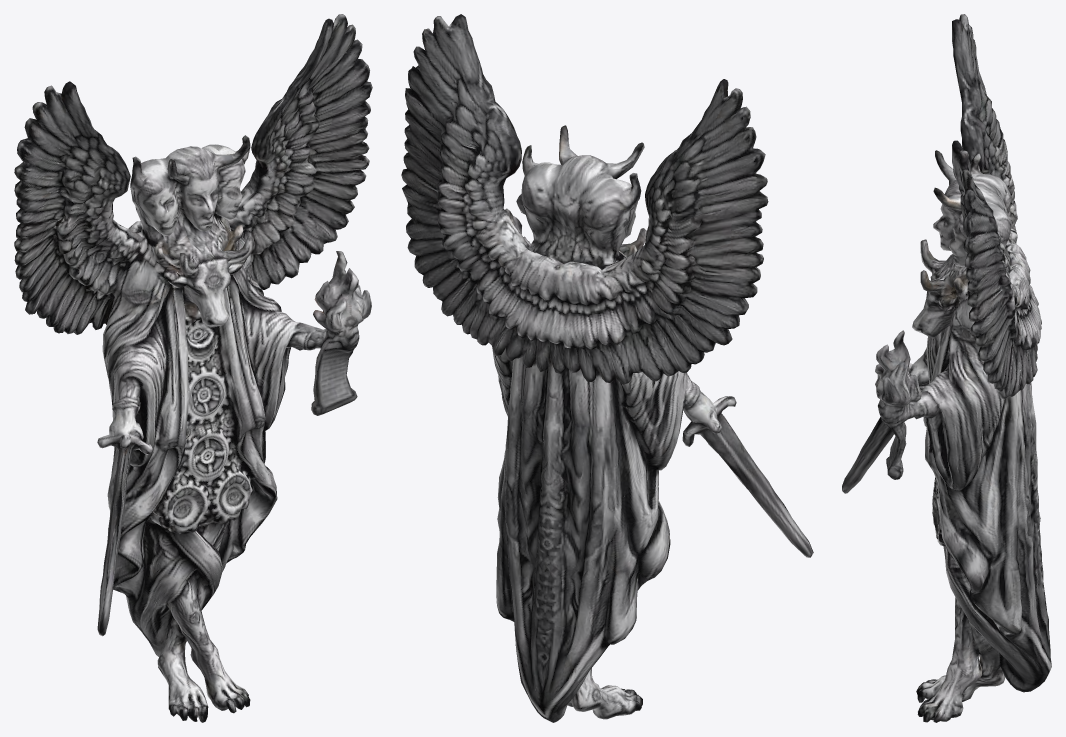
Rendered from Clergy_Cherub.glb.
3 views of the same model, side by side, from view 1: azimuth 30°, elevation 25°; view 2: azimuth 150°, elevation 25°; view 3: azimuth 270°, elevation 25° (orthographic). The views are drawn at different scales.
Bounding box in the file's own units: 1.08 × 1.91 × 0.5754.
Materials: 1 (1 with a texture image).
